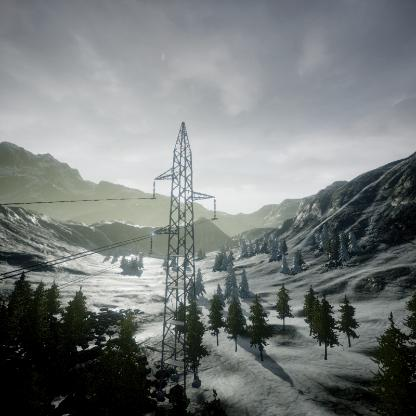tower: (146, 119, 220, 390)
